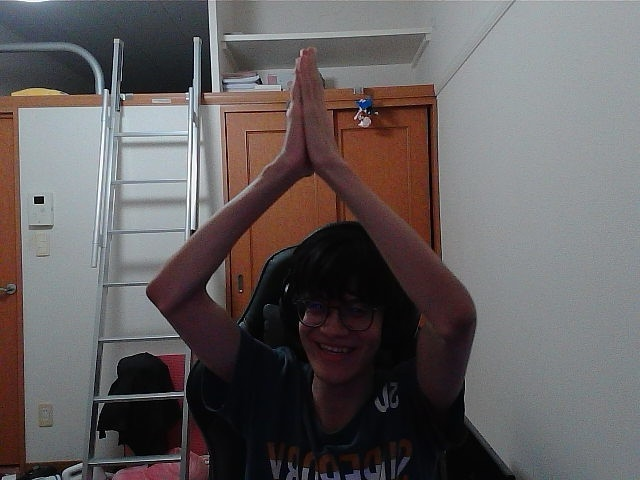pray: (296, 53, 319, 158)
